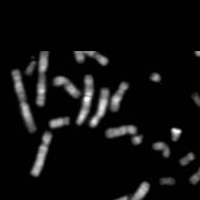chromosome: (11, 68, 36, 131), (30, 130, 52, 177), (76, 74, 94, 126), (105, 181, 148, 200), (90, 88, 110, 128), (36, 50, 48, 107), (54, 76, 80, 98), (110, 81, 127, 112), (74, 50, 108, 65), (106, 126, 138, 138), (153, 141, 169, 158), (179, 152, 195, 166), (50, 116, 70, 127), (189, 165, 200, 184), (159, 176, 175, 187), (170, 127, 181, 142), (26, 60, 36, 74), (191, 91, 200, 106), (132, 133, 144, 144), (149, 72, 161, 81)
